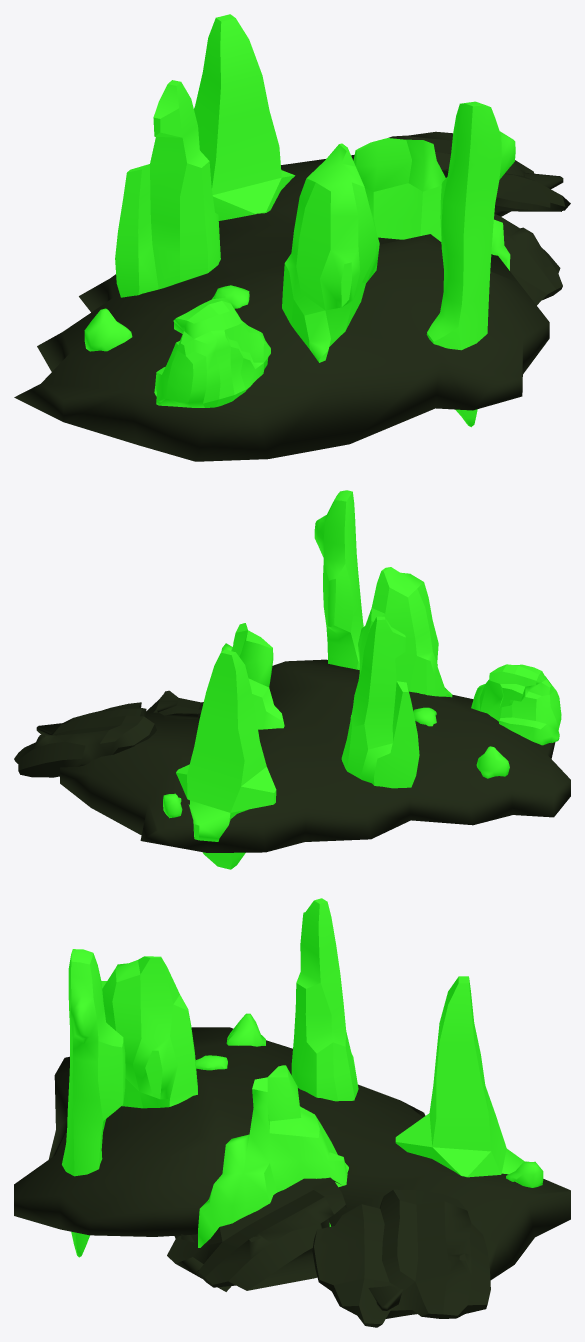
The model's file is pile_green.glb.
The picture shows the model from 3 angles, top to bottom: view 1: azimuth 30°, elevation 25°; view 2: azimuth 150°, elevation 25°; view 3: azimuth 270°, elevation 25°; orthographic projection. The views are drawn at different scales.
Parts seen in each view (by area): view 1: rock.007, rock.009, rock.008, rock.011, rock.004, rock.017, rock.026, rock.006, rock.001, rock.030, rock.035; view 2: rock.007, rock.004, rock.009, rock.011, rock.008, rock.006, rock.017, rock.026, rock.001, rock.030; view 3: rock.007, rock.006, rock.026, rock.004, rock.001, rock.008, rock.011, rock.009, rock.030, rock.032.
Part boxes in pixels (<box>): rock.007: <box>14,155,563,461</box>; rock.009: <box>115,80,220,297</box>; rock.008: <box>282,143,379,362</box>; rock.011: <box>426,101,515,427</box>; rock.004: <box>194,14,295,220</box>; rock.017: <box>154,298,270,407</box>; rock.026: <box>353,138,510,270</box>; rock.006: <box>388,131,570,211</box>; rock.001: <box>494,214,562,305</box>; rock.030: <box>84,308,132,351</box>; rock.035: <box>212,285,249,308</box>; rock.007: <box>36,659,570,852</box>; rock.004: <box>176,649,276,869</box>; rock.009: <box>341,616,419,788</box>; rock.011: <box>314,490,363,669</box>; rock.008: <box>358,567,452,697</box>; rock.006: <box>14,702,156,777</box>; rock.017: <box>471,664,561,745</box>; rock.026: <box>221,623,284,729</box>; rock.001: <box>146,690,203,720</box>; rock.030: <box>476,746,509,778</box>; rock.007: <box>14,1027,570,1310</box>; rock.006: <box>312,1189,490,1327</box>; rock.026: <box>198,1065,348,1247</box>; rock.004: <box>395,976,524,1177</box>; rock.001: <box>167,1177,346,1291</box>; rock.008: <box>102,956,197,1108</box>; rock.011: <box>62,949,125,1257</box>; rock.009: <box>291,898,358,1101</box>; rock.030: <box>226,1013,265,1046</box>; rock.032: <box>506,1161,543,1187</box>.
Size of the model in its own units: 34.94 by 18.17 by 28.82.
